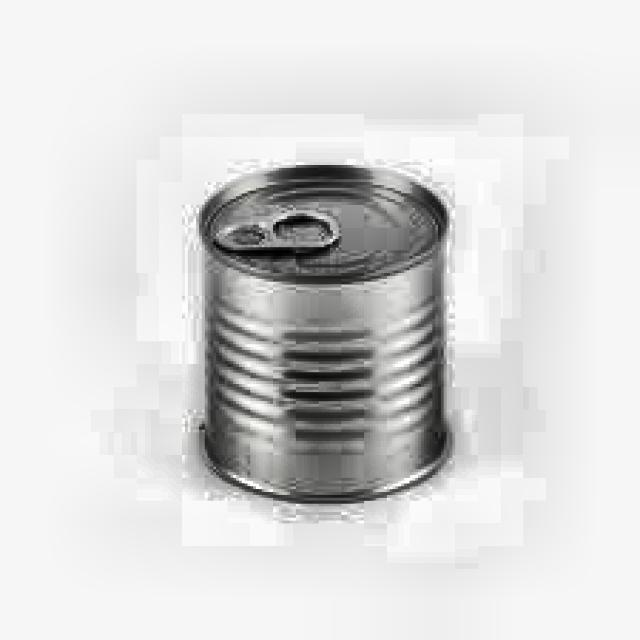can: (194, 156, 461, 509)
